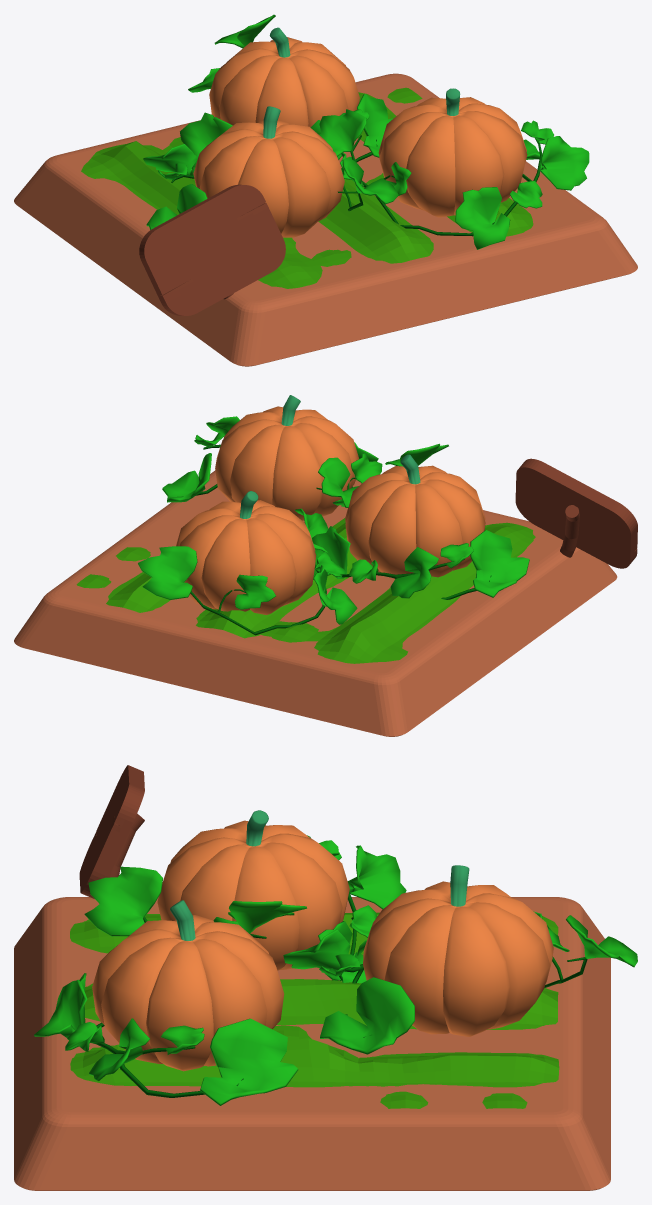
The model's file is 64KabakTarlasi.fbx.
The picture shows the model from 3 angles, top to bottom: view 1: azimuth 30°, elevation 25°; view 2: azimuth 150°, elevation 25°; view 3: azimuth 270°, elevation 25°; orthographic projection. The views are drawn at different scales.
Visible parts, largest first — view 1: Cube.015, Pumpkin_.002, Cylinder.001, Cube.019, Pumpkin_.001, Pumpkin_.003, Leaf.017, Leaf.014, Leaf.015, Leaf.024, Leaf.023, Leaf.012 (+5 smaller); view 2: Cube.015, Cube.019, Pumpkin_.001, Pumpkin_.003, Pumpkin_.002, Cylinder.001, Leaf.011, Leaf.022, Leaf.013, Leaf.016, Leaf.015, Leaf.024 (+8 smaller); view 3: Cube.015, Pumpkin_.003, Cube.019, Pumpkin_.002, Pumpkin_.001, Leaf.016, Leaf.023, Cylinder.001, Leaf.012, Leaf.013, Leaf.017, Leaf.021 (+7 smaller).
Part boxes in pixels (x1,y1,x2,y2): Cube.015: [14, 73, 637, 366]; Pumpkin_.002: [378, 88, 527, 217]; Cylinder.001: [139, 184, 285, 315]; Cube.019: [81, 87, 533, 288]; Pumpkin_.001: [193, 106, 344, 237]; Pumpkin_.003: [209, 27, 359, 127]; Leaf.017: [455, 187, 510, 249]; Leaf.014: [540, 136, 589, 190]; Leaf.015: [319, 109, 366, 156]; Leaf.024: [180, 112, 232, 167]; Leaf.023: [357, 94, 393, 157]; Leaf.012: [342, 157, 398, 204]; Cube.015: [14, 470, 617, 736]; Cube.019: [76, 518, 535, 663]; Pumpkin_.001: [345, 454, 485, 579]; Pumpkin_.003: [176, 491, 316, 614]; Pumpkin_.002: [215, 395, 358, 520]; Cylinder.001: [515, 458, 637, 568]; Leaf.011: [470, 530, 529, 597]; Leaf.022: [138, 546, 197, 599]; Leaf.013: [390, 547, 438, 598]; Leaf.016: [162, 453, 211, 502]; Leaf.015: [318, 457, 358, 507]; Leaf.024: [313, 565, 357, 624]; Cube.015: [14, 897, 610, 1190]; Pumpkin_.003: [363, 865, 553, 1036]; Cube.019: [70, 911, 559, 1108]; Pumpkin_.002: [92, 900, 284, 1071]; Pumpkin_.001: [157, 810, 349, 970]; Leaf.016: [200, 1018, 298, 1105]; Leaf.023: [320, 977, 414, 1054]; Cylinder.001: [79, 765, 144, 898]; Leaf.012: [84, 866, 162, 936]; Leaf.013: [347, 845, 406, 909]; Leaf.017: [34, 973, 87, 1037]; Leaf.021: [283, 929, 350, 970].
Size of the model in its own units: 10.17 by 3.51 by 9.37.
